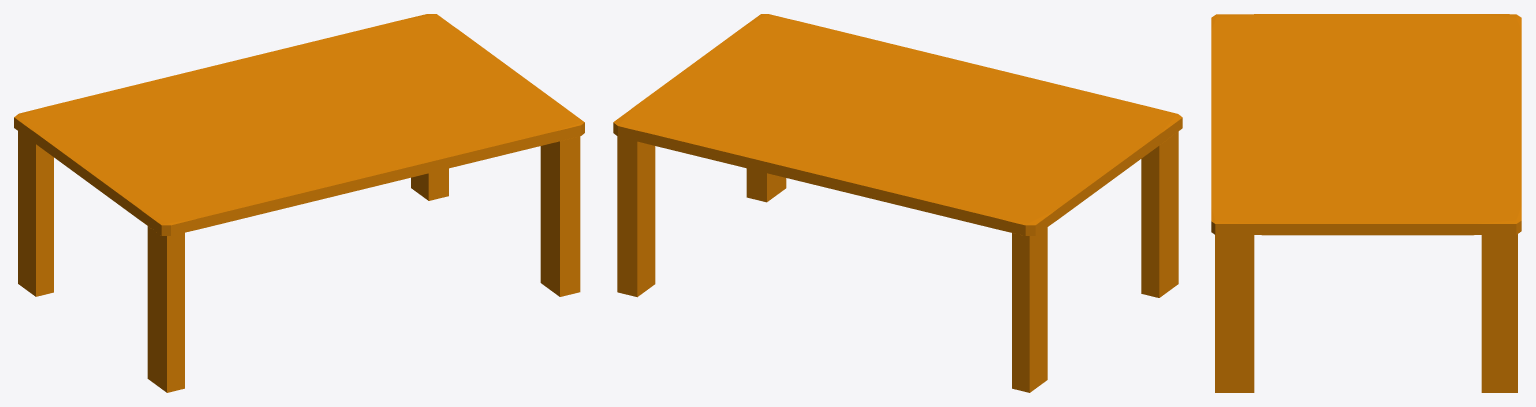
File: Mesa.fbx
The picture shows the model from 3 angles, left to right: view 1: azimuth 30°, elevation 25°; view 2: azimuth 150°, elevation 25°; view 3: azimuth 270°, elevation 25°; orthographic projection.
Parts seen in each view (by area): view 1: Mesa; view 2: Mesa; view 3: Mesa.
Boxes of the visible parts, x1,y1,x2,y2 form: Mesa: (14, 14, 584, 392); Mesa: (613, 14, 1182, 392); Mesa: (1211, 14, 1521, 392).
Size of the model in its own units: 80 by 30.48 by 50.
